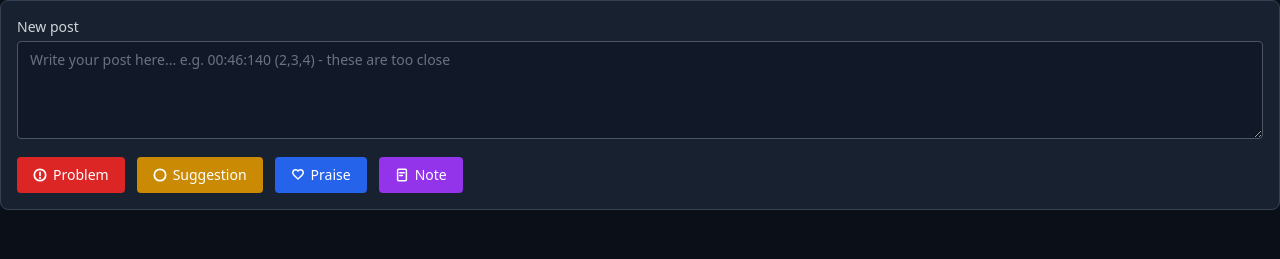
Test case: CreatePostForm › shows error when body is empty
This screenshot has width=1280, height=259.
Click the button "Note" at (421, 175), box x1=379 y1=157 x2=463 y2=193
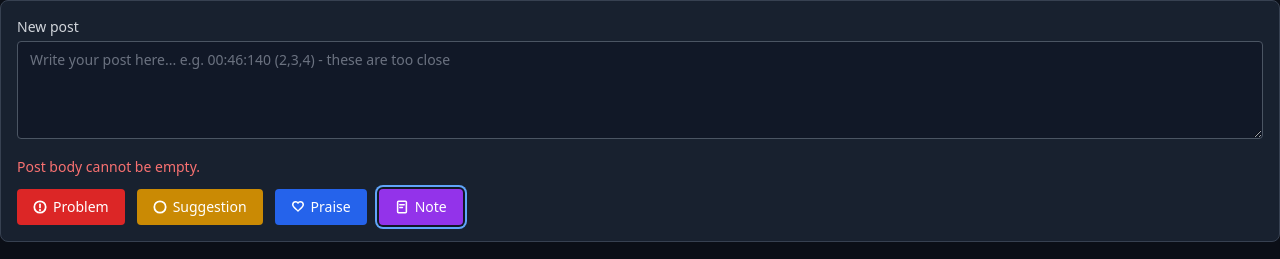
Expected: the text "Post body cannot be empty." is shown, x1=17 y1=157 x2=200 y2=176
